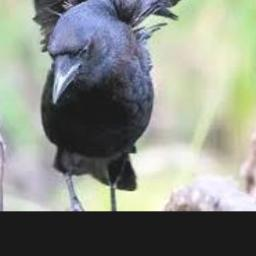Crow: (0, 0, 256, 211)
